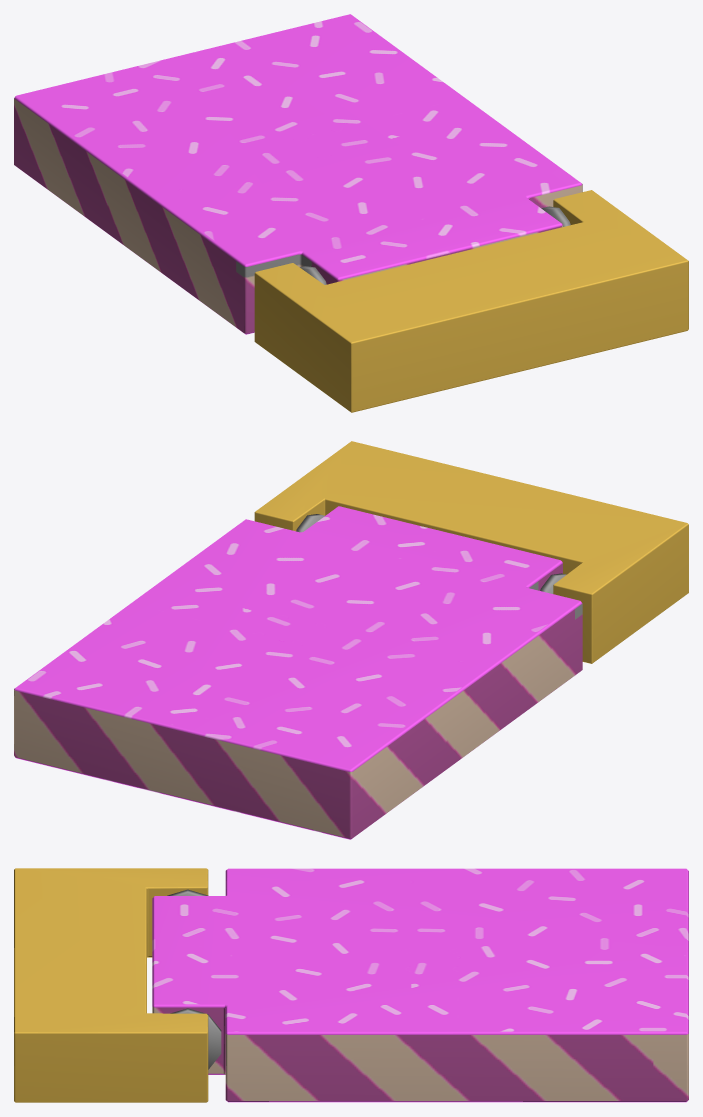
The model's file is PLF0110016.fbx.
3 views of the same model, one above another, from view 1: azimuth 30°, elevation 25°; view 2: azimuth 150°, elevation 25°; view 3: azimuth 270°, elevation 25° (orthographic).
Parts seen in each view (by area): view 1: smPLF0110016; view 2: smPLF0110016; view 3: smPLF0110016.
Boxes of the visible parts, x1=… form: smPLF0110016: x1=14, y1=14, x2=688, y2=412; smPLF0110016: x1=14, y1=441, x2=688, y2=839; smPLF0110016: x1=14, y1=868, x2=688, y2=1102.
Size of the model in its own units: 223 by 44.65 by 386.
Materials: 1 (1 with a texture image).
